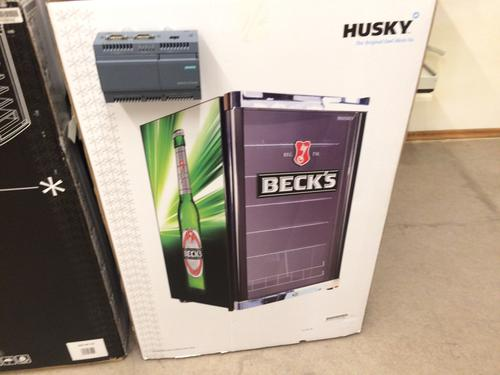iot2000: (93, 29, 203, 105)
